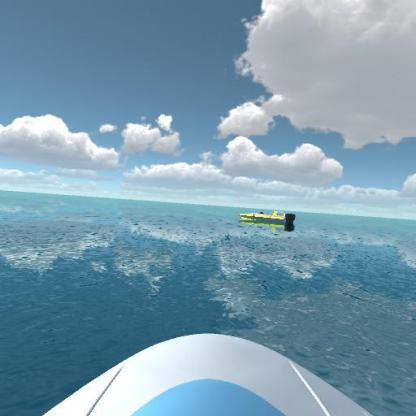usv2: (237, 205, 299, 233)
